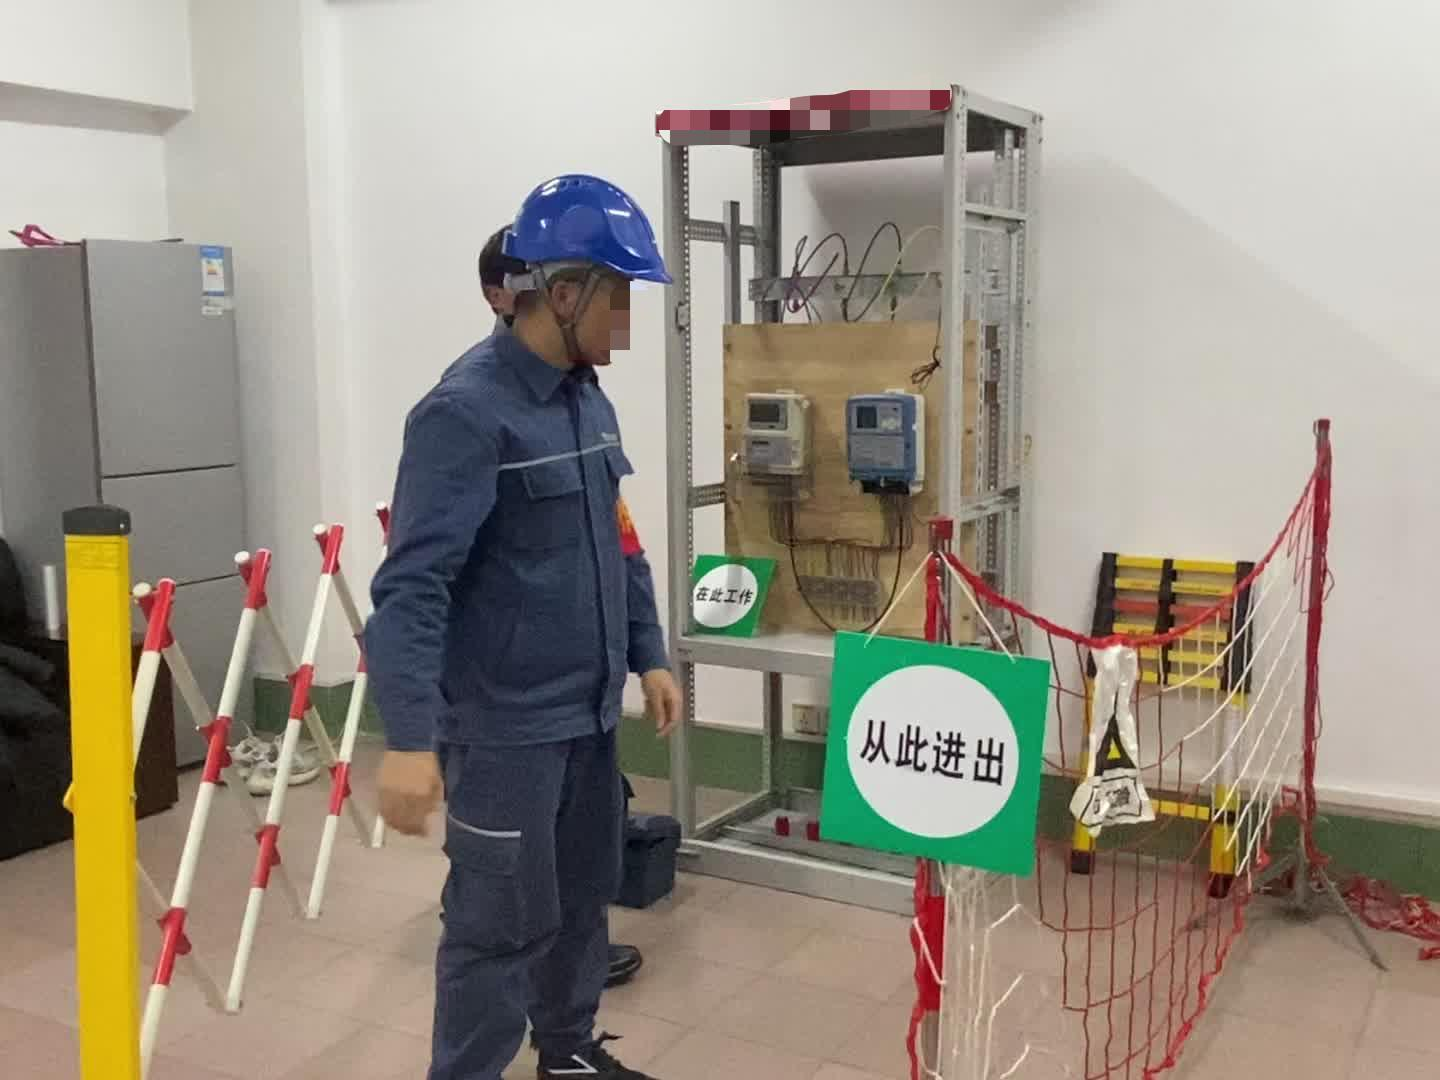halt: (478, 174, 678, 373)
inear: (534, 265, 603, 334)
